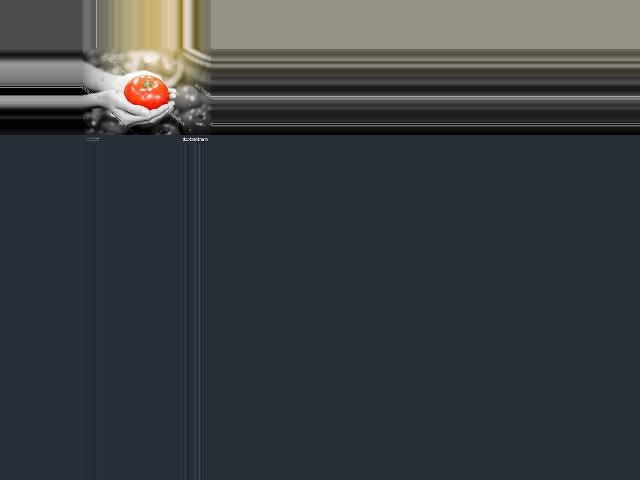tomato: (123, 75, 168, 110)
